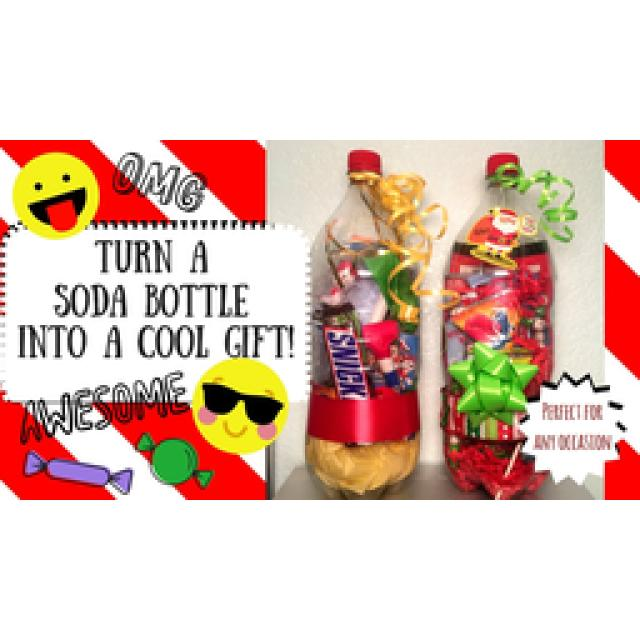plastic_soda_bottles: (440, 155, 559, 501), (305, 148, 422, 492)
